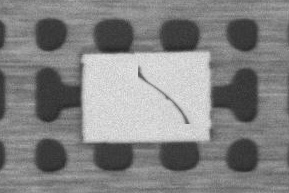DIE_INK: (190, 39, 289, 88)
